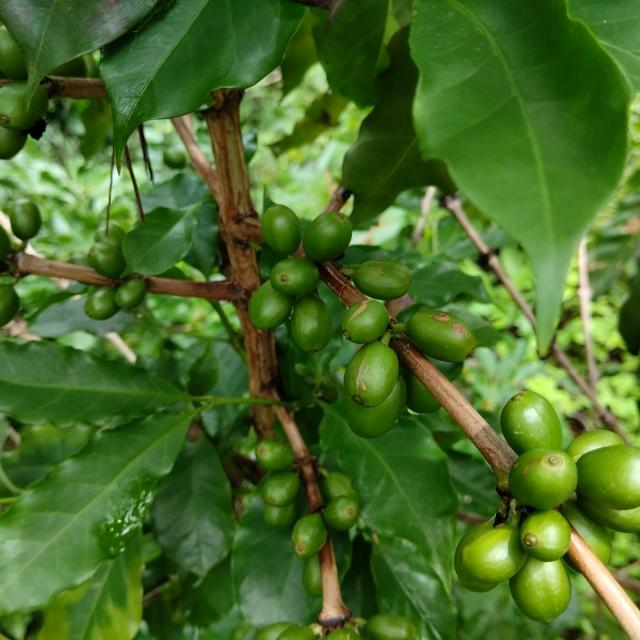green: (461, 520, 529, 584), (509, 449, 578, 511), (510, 556, 572, 623), (501, 391, 564, 456), (578, 445, 640, 511), (347, 376, 407, 439), (405, 310, 476, 363), (344, 340, 399, 407), (561, 500, 613, 564), (455, 521, 498, 594), (521, 510, 572, 563), (303, 212, 352, 263), (291, 293, 332, 353), (579, 494, 640, 533), (353, 260, 412, 300), (248, 280, 295, 330), (342, 300, 390, 344), (261, 204, 301, 255), (270, 258, 319, 298), (568, 430, 625, 463), (403, 370, 442, 414), (427, 356, 464, 382)
